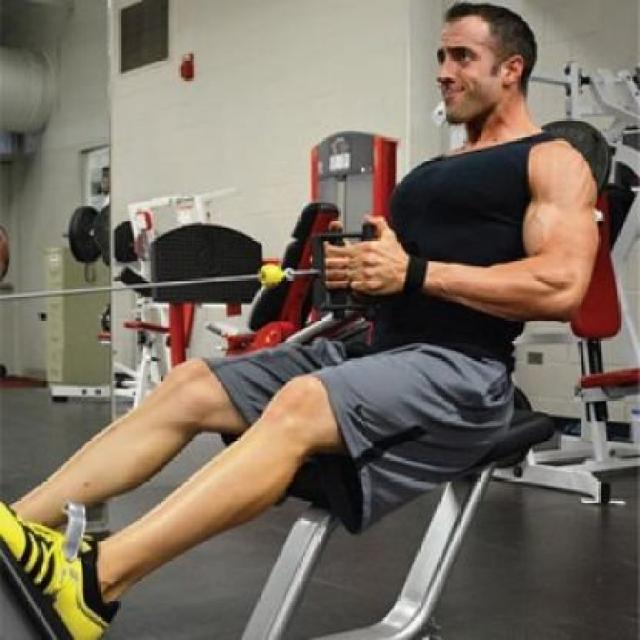Seated Cable Rows: (3, 1, 620, 640)
